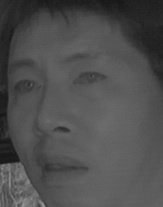eye: (71, 66, 107, 90), (11, 76, 40, 96)
mouth: (32, 149, 94, 185)
